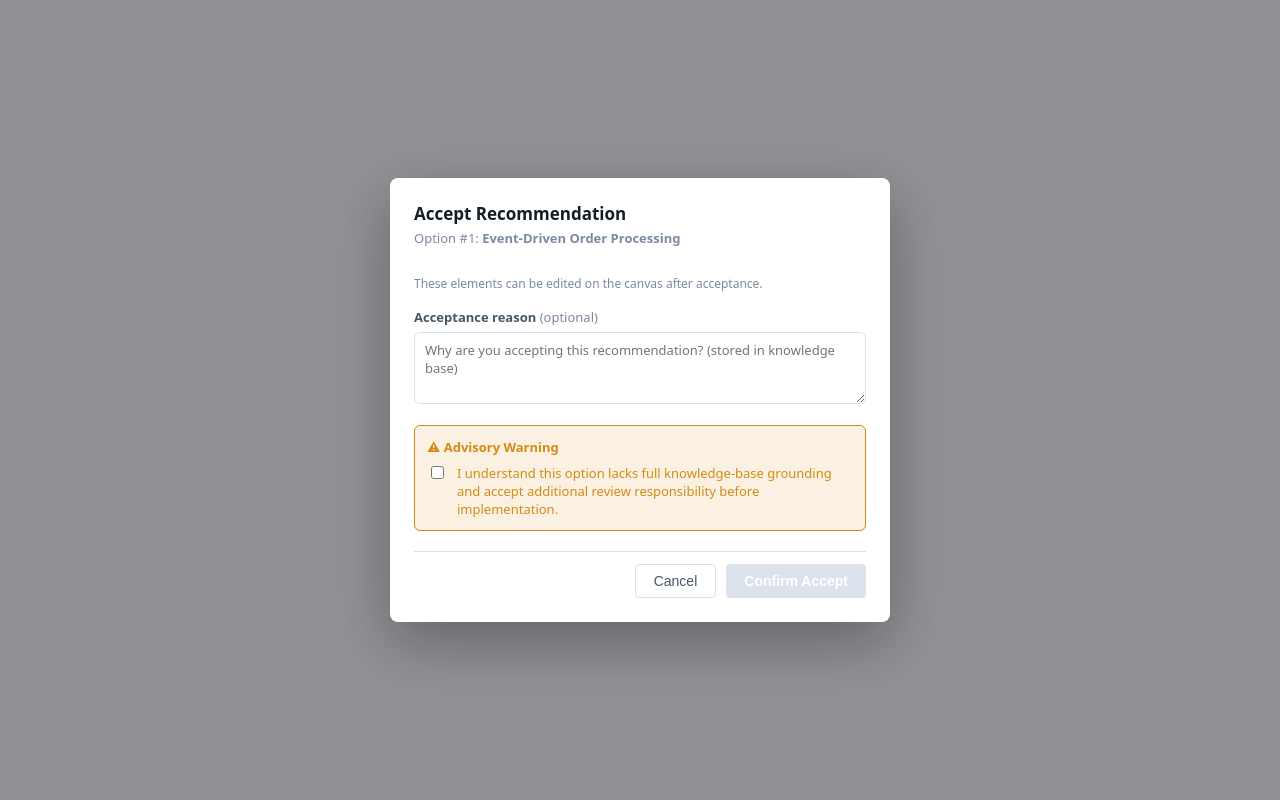
Test: AcceptDialog viewport overflow fix (ADP-4sf) › an advisory option requires the acknowledgement checkbox before Confirm Accept is enabled
Check: the button "Confirm Accept" is disabled, box [726, 564, 866, 598]
Click the checkbox: (438, 472) [431, 466, 444, 479]
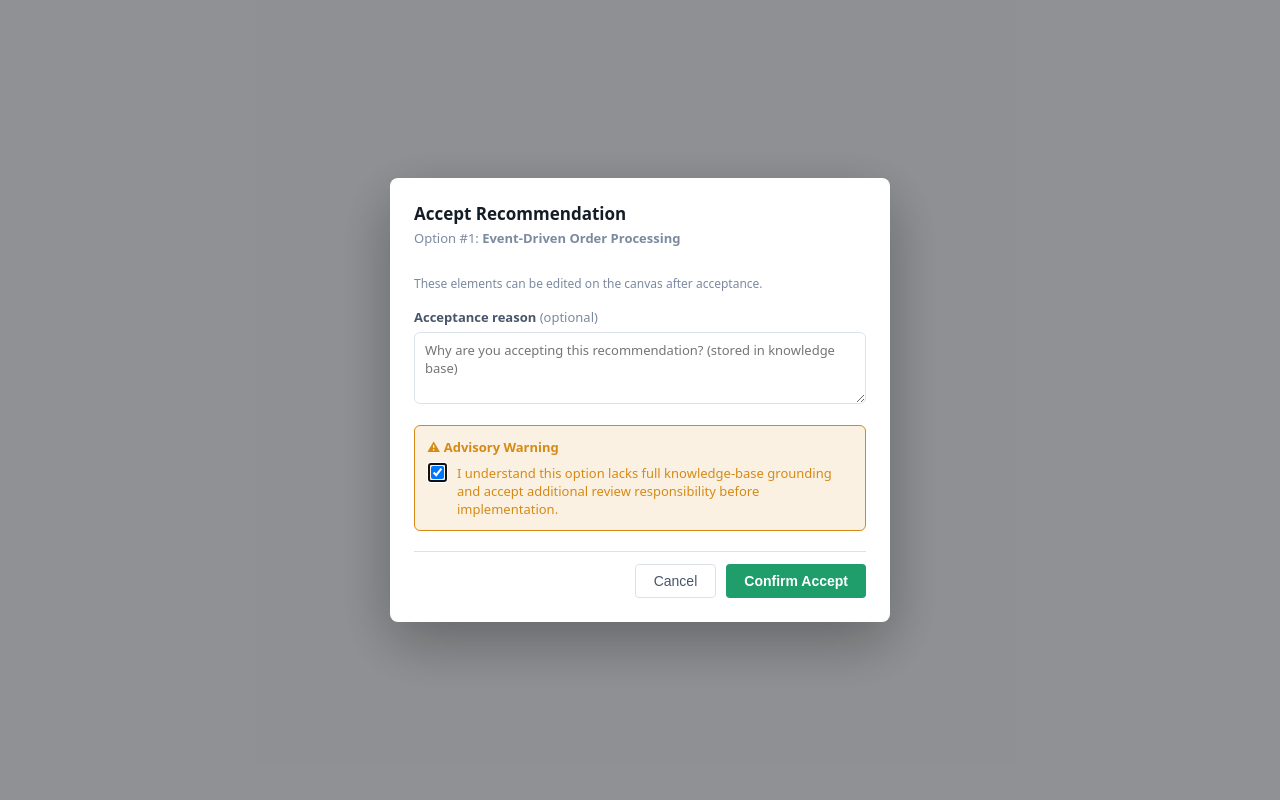
Check: the button "Confirm Accept" is enabled, box [726, 564, 866, 598]
